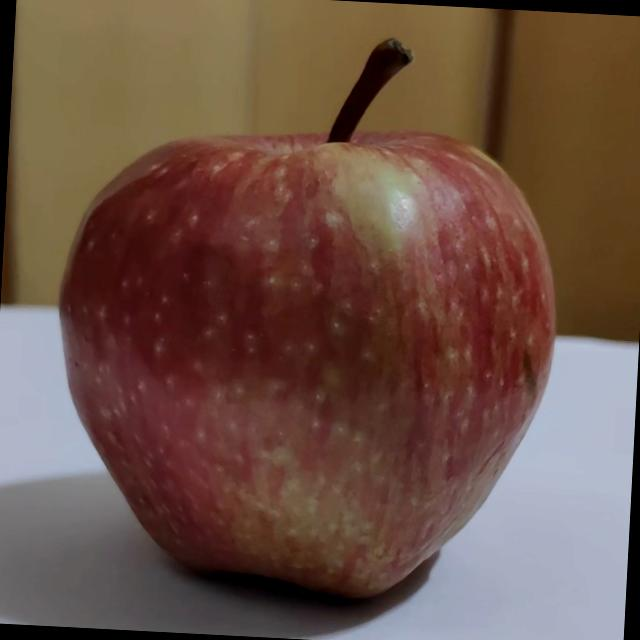apple: (6, 13, 624, 640)
